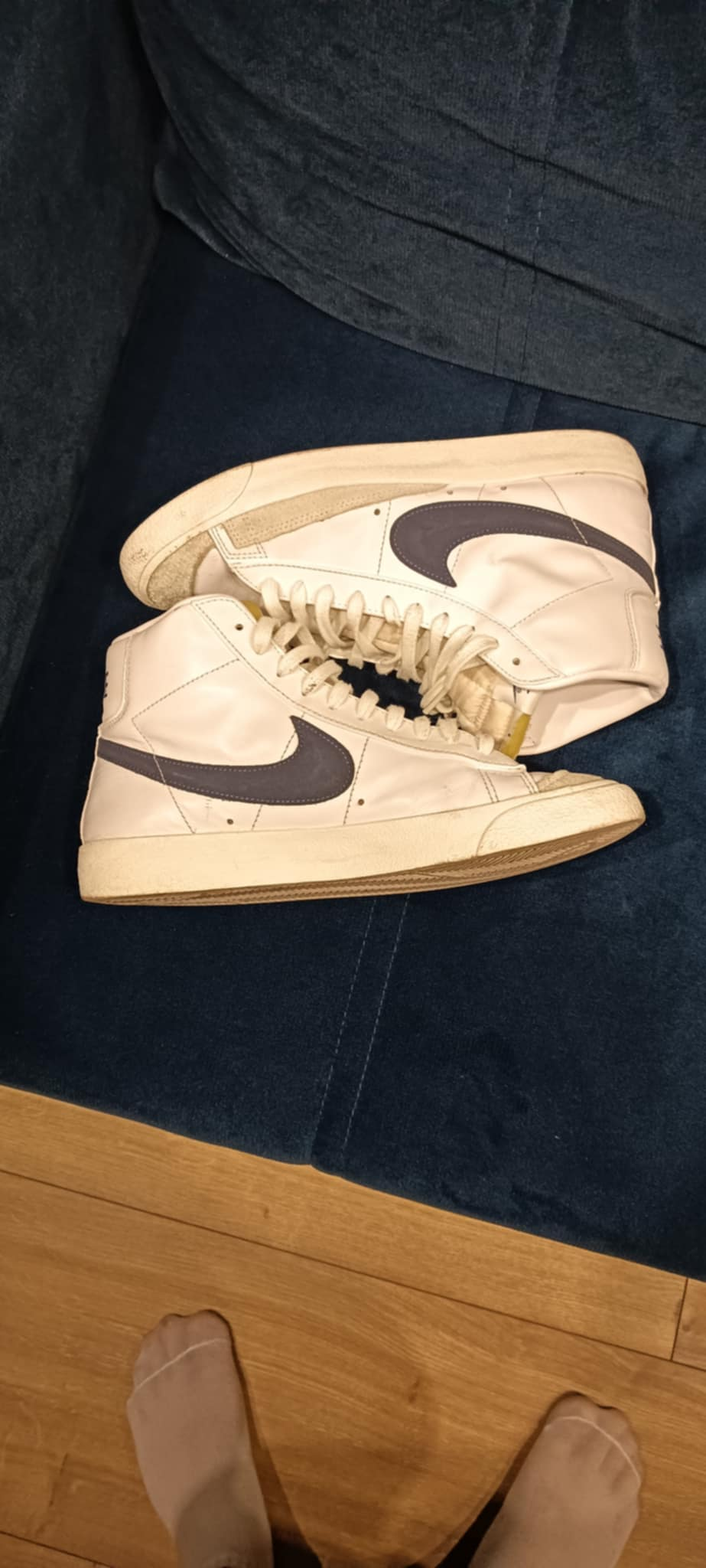nike_blazer_mid77_darkblue: (76, 594, 646, 912)
